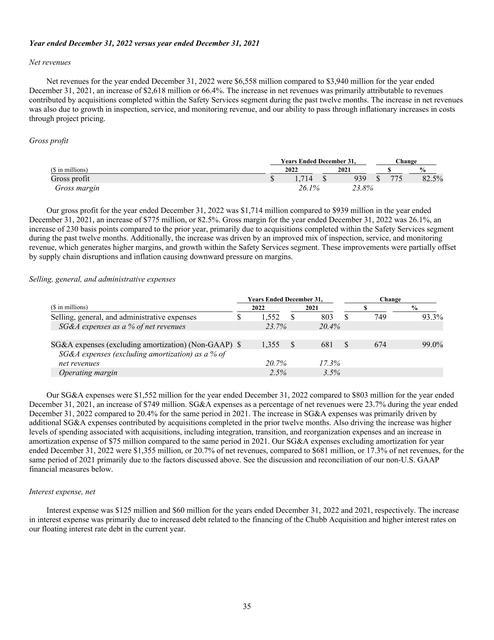box: (48, 296, 446, 379), (49, 157, 445, 194)
